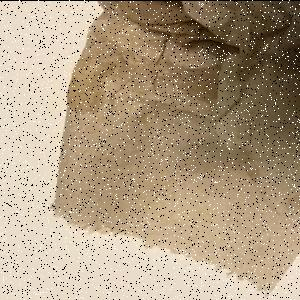Trash: (50, 1, 300, 299)
